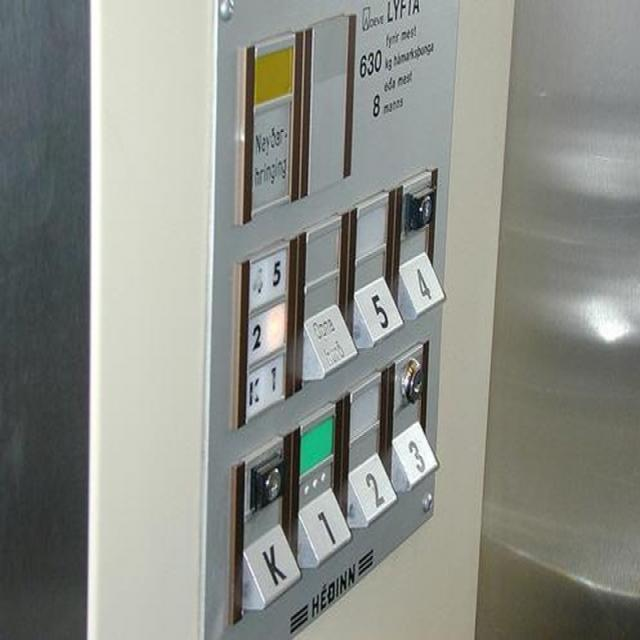1: (296, 485, 352, 567)
2: (348, 452, 397, 528), (244, 300, 288, 368)
3: (391, 420, 438, 493)
4: (398, 251, 446, 321)
5: (352, 275, 402, 349), (245, 238, 288, 314)
K: (242, 524, 302, 605)
K1: (244, 348, 286, 417)
keyhole: (248, 446, 284, 511), (397, 352, 428, 408), (406, 180, 436, 231)
unknown: (302, 302, 358, 378)
